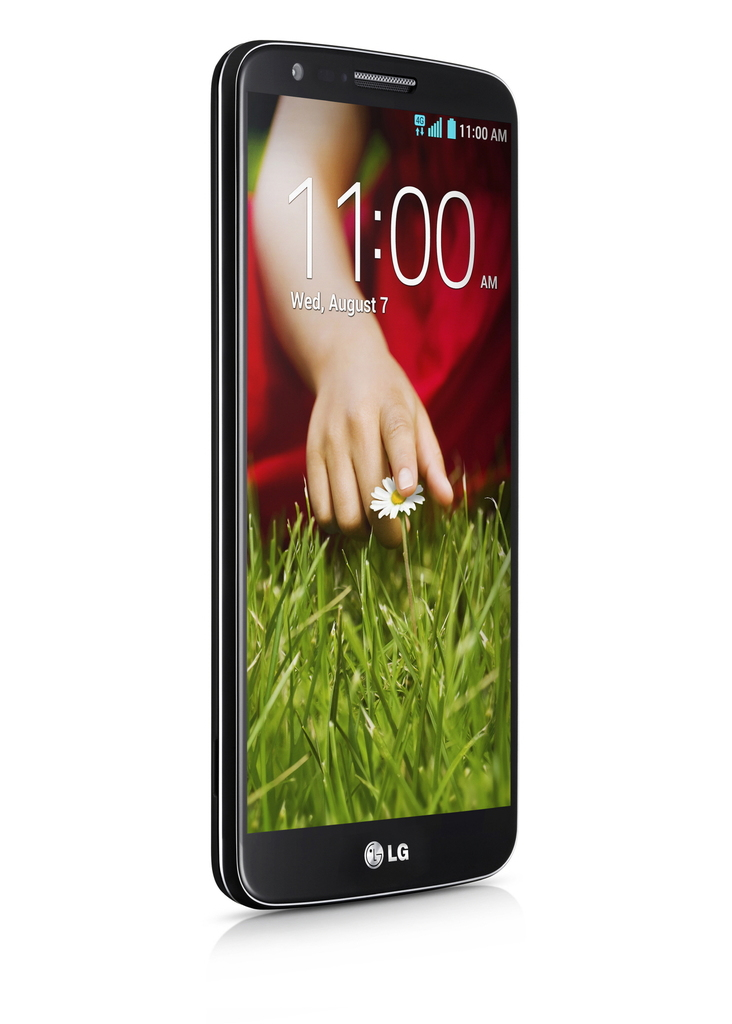Mobile-phone: (202, 29, 520, 921)
